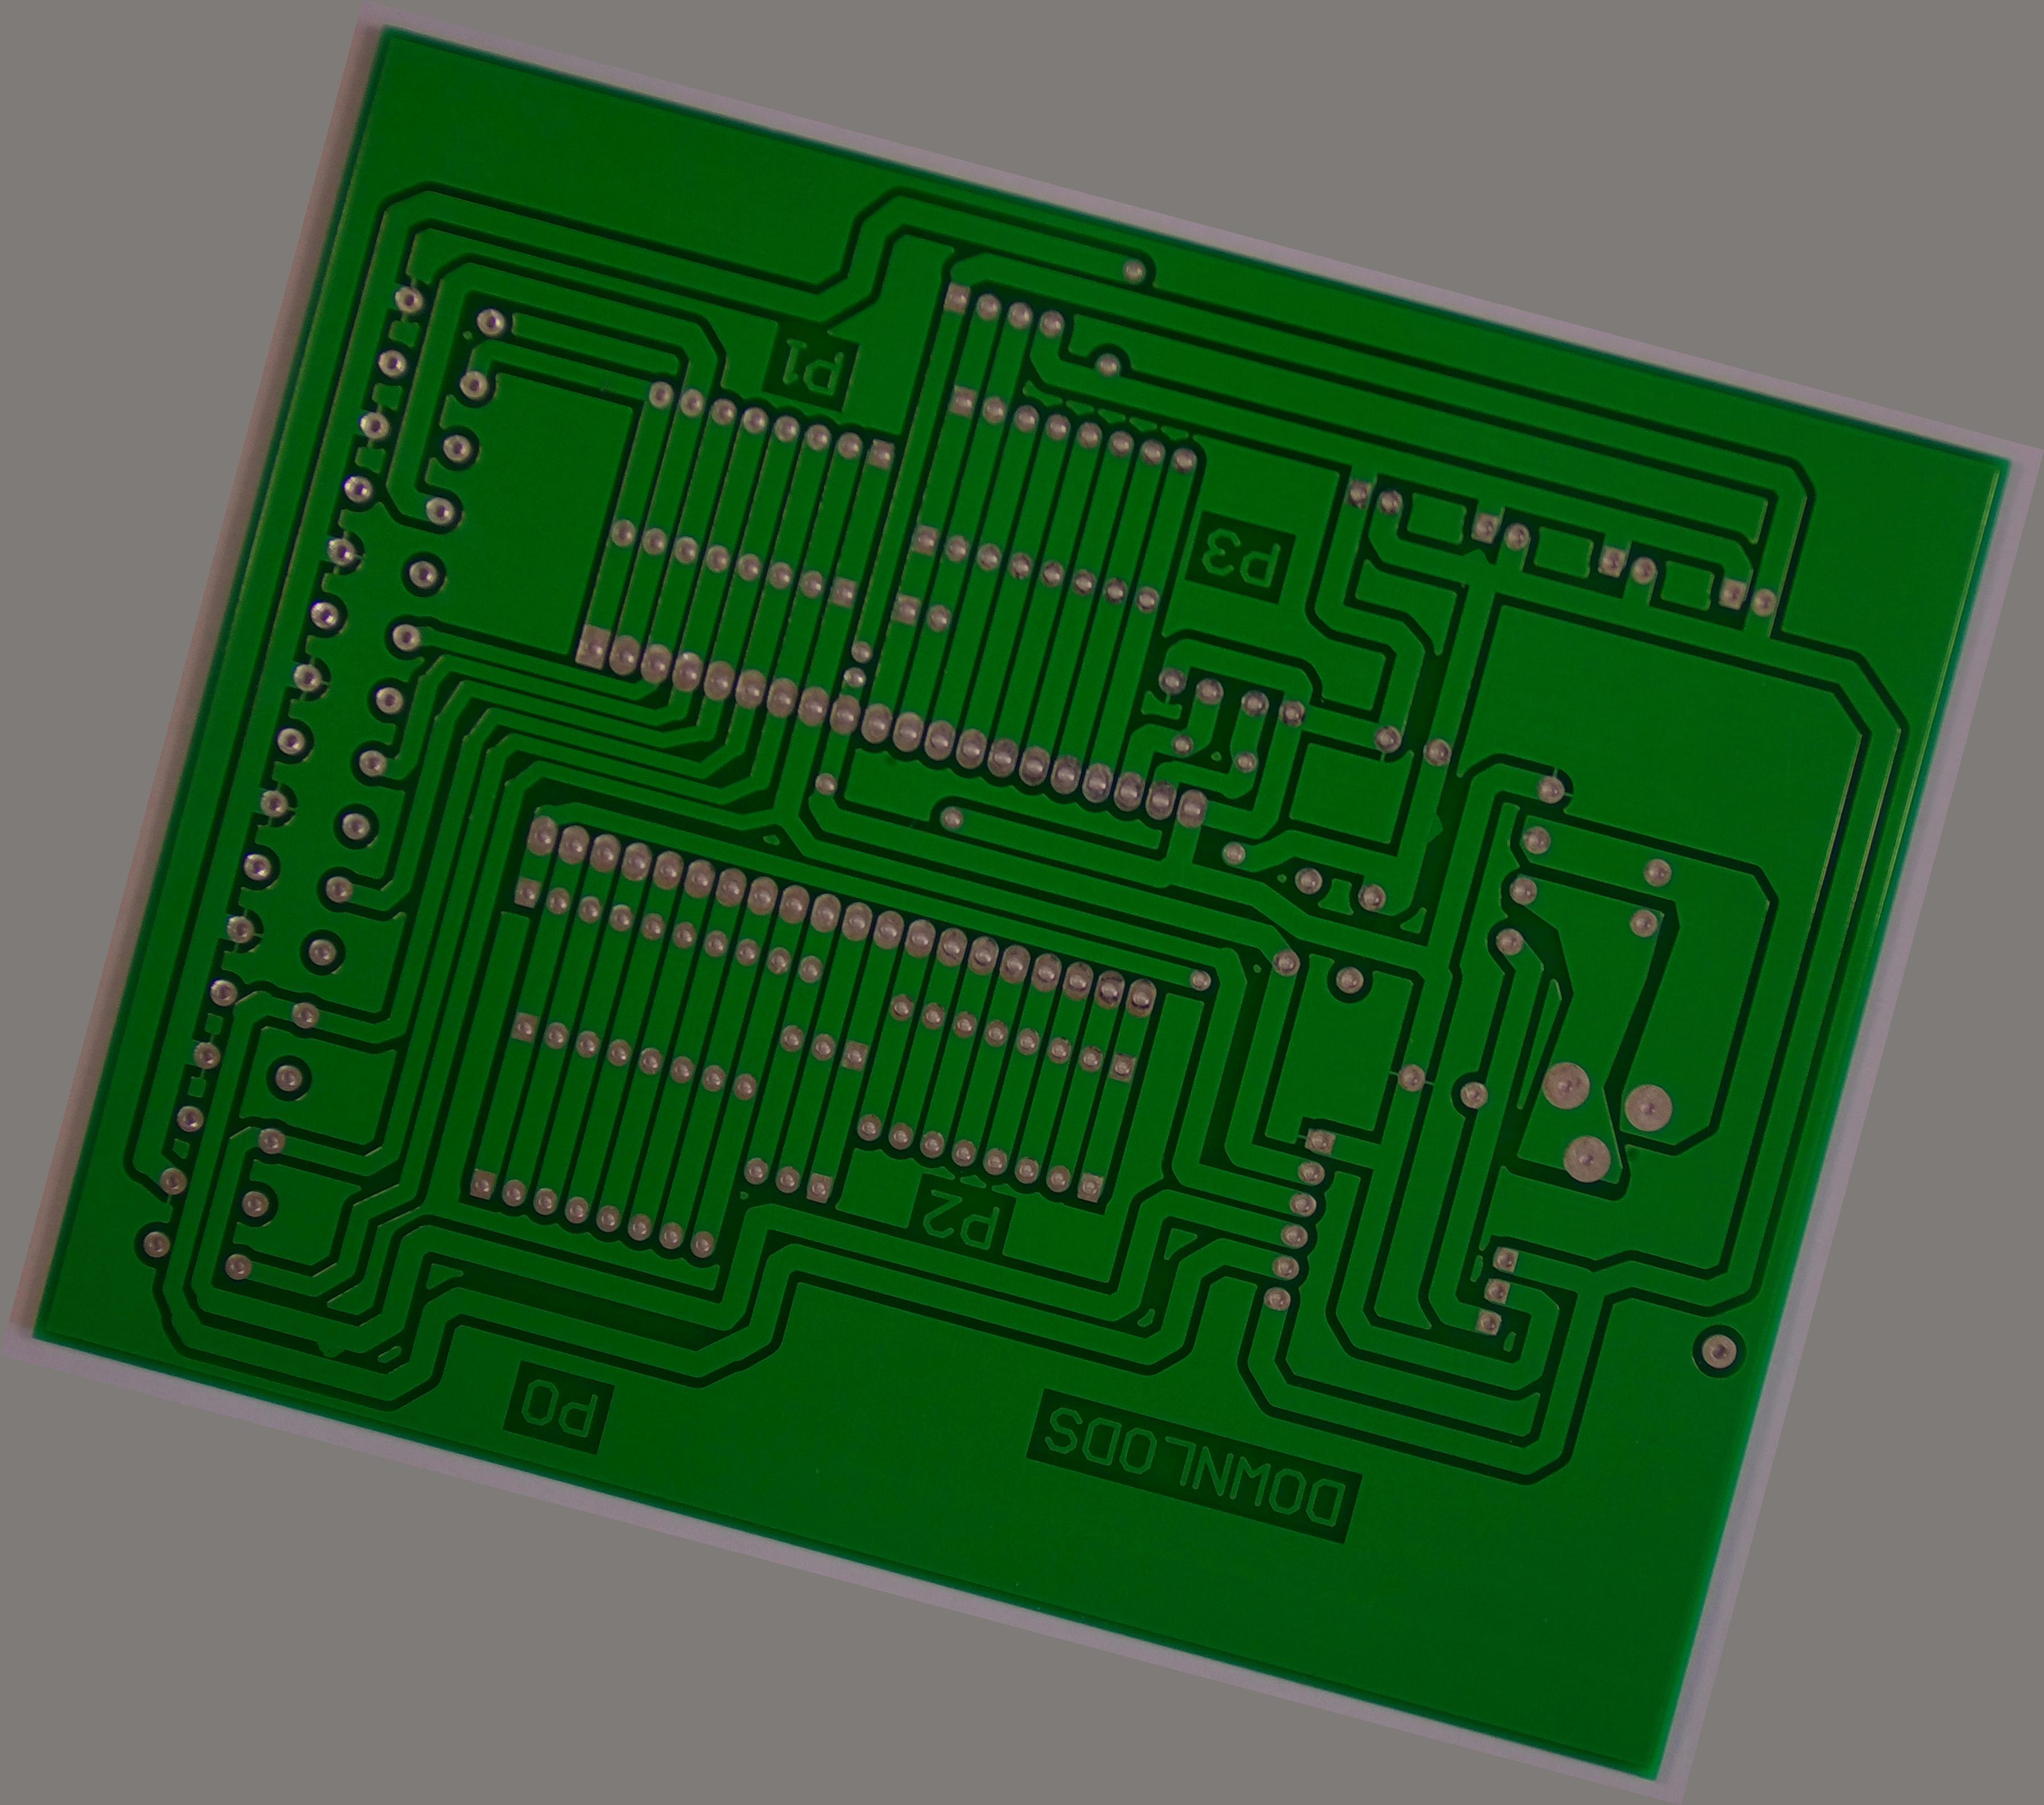spur: (1413, 801, 1457, 855), (305, 1328, 354, 1373), (1455, 537, 1504, 573)
